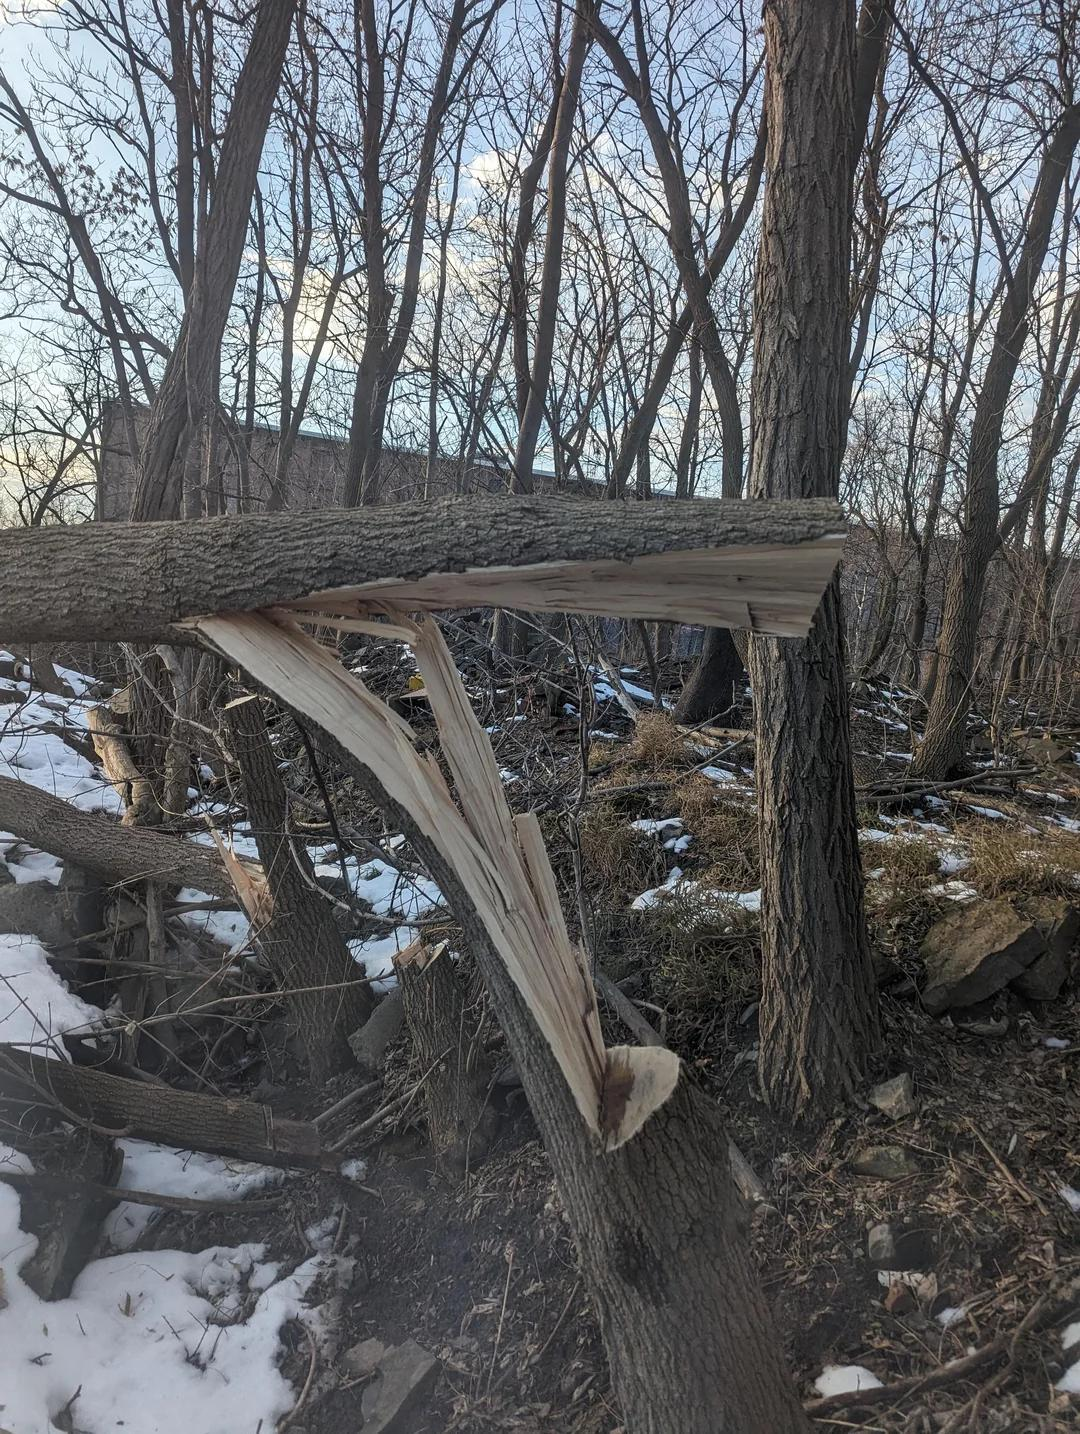mechanical damage: (196, 610, 676, 1148), (298, 535, 844, 634)
